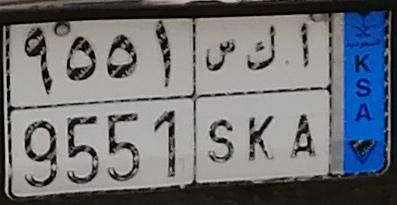1: (152, 20, 177, 179)
5: (104, 32, 141, 182), (65, 36, 100, 185)
9: (23, 24, 59, 189)
A: (289, 22, 318, 158)
K: (245, 25, 278, 165)
S: (205, 38, 238, 165)
